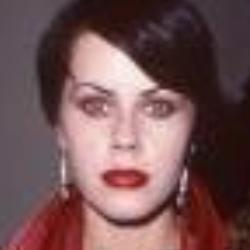face: (21, 3, 228, 224)
